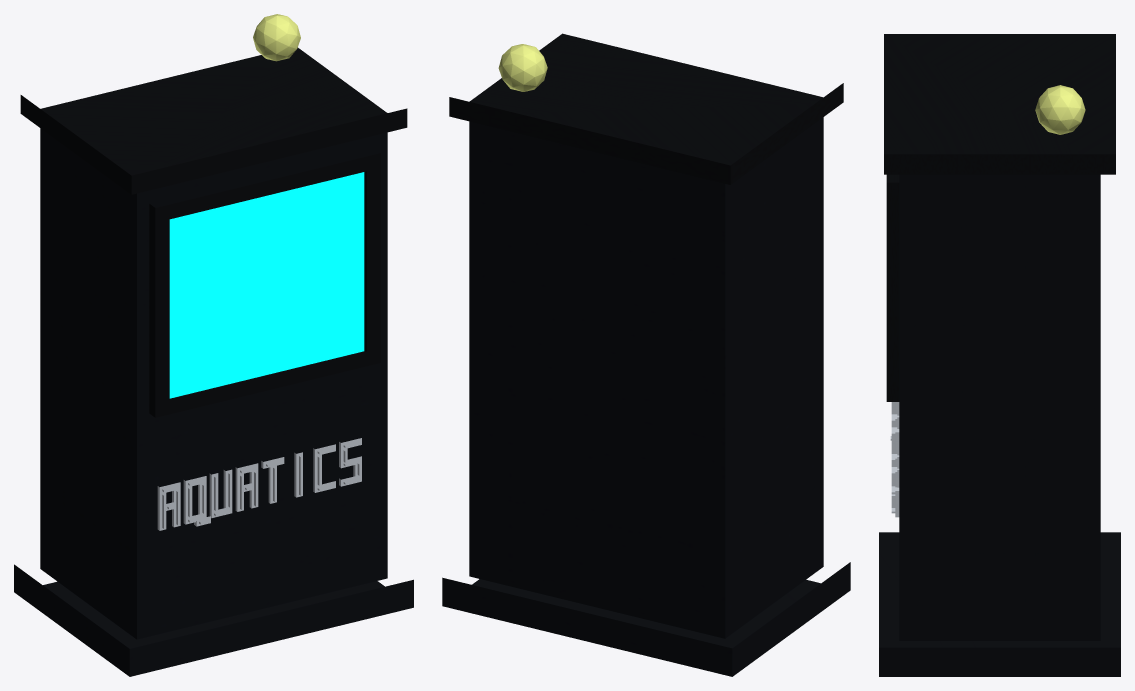
The model's file is v1_court_plinth.glb.
The picture shows the model from 3 angles, left to right: view 1: azimuth 30°, elevation 25°; view 2: azimuth 150°, elevation 25°; view 3: azimuth 270°, elevation 25°; orthographic projection. The views are drawn at different scales.
Parts seen in each view (by area): view 1: Plinth_Body, Info_Screen, Plinth_Top, Screen_Frame, Wayfinding_Glyphs, Top_Ball; view 2: Plinth_Body, Plinth_Top, Top_Ball; view 3: Plinth_Body, Plinth_Top, Screen_Frame, Top_Ball, Wayfinding_Glyphs.
Boxes of the visible parts, x1,y1,x2,y2 form: Plinth_Body: (14, 128, 413, 676); Info_Screen: (169, 172, 364, 398); Plinth_Top: (20, 47, 407, 194); Screen_Frame: (149, 153, 380, 417); Wayfinding_Glyphs: (157, 438, 361, 530); Top_Ball: (253, 14, 300, 61); Plinth_Body: (442, 117, 850, 676); Plinth_Top: (449, 33, 843, 184); Top_Ball: (498, 44, 547, 91); Plinth_Body: (879, 174, 1120, 676); Plinth_Top: (884, 34, 1115, 174); Screen_Frame: (886, 174, 899, 401); Top_Ball: (1035, 85, 1085, 134); Wayfinding_Glyphs: (890, 402, 899, 517).
Size of what is drawn, in the model's own units: 0.68 by 1.24 by 0.48.
Materials: 5 (3 with a texture image).
